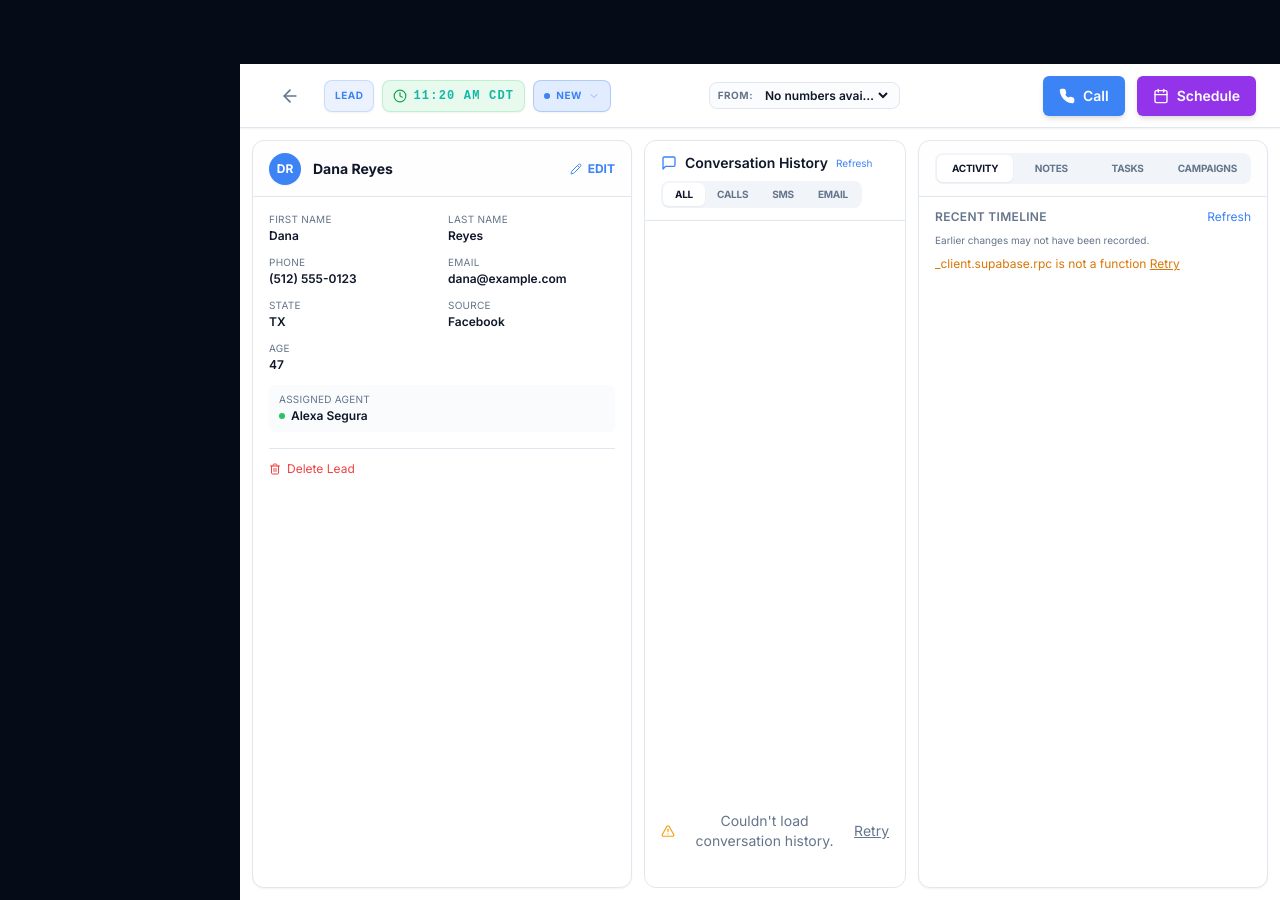
Test: FullScreenContactView — lead score is not exposed › renders no Score field in EDIT mode
This screenshot has width=1280, height=900.
Expected: the text "Source" is shown, x1=448 y1=299 x2=491 y2=311
Click the button "EDIT" at (592,168), box x1=570 y1=160 x2=615 y2=176
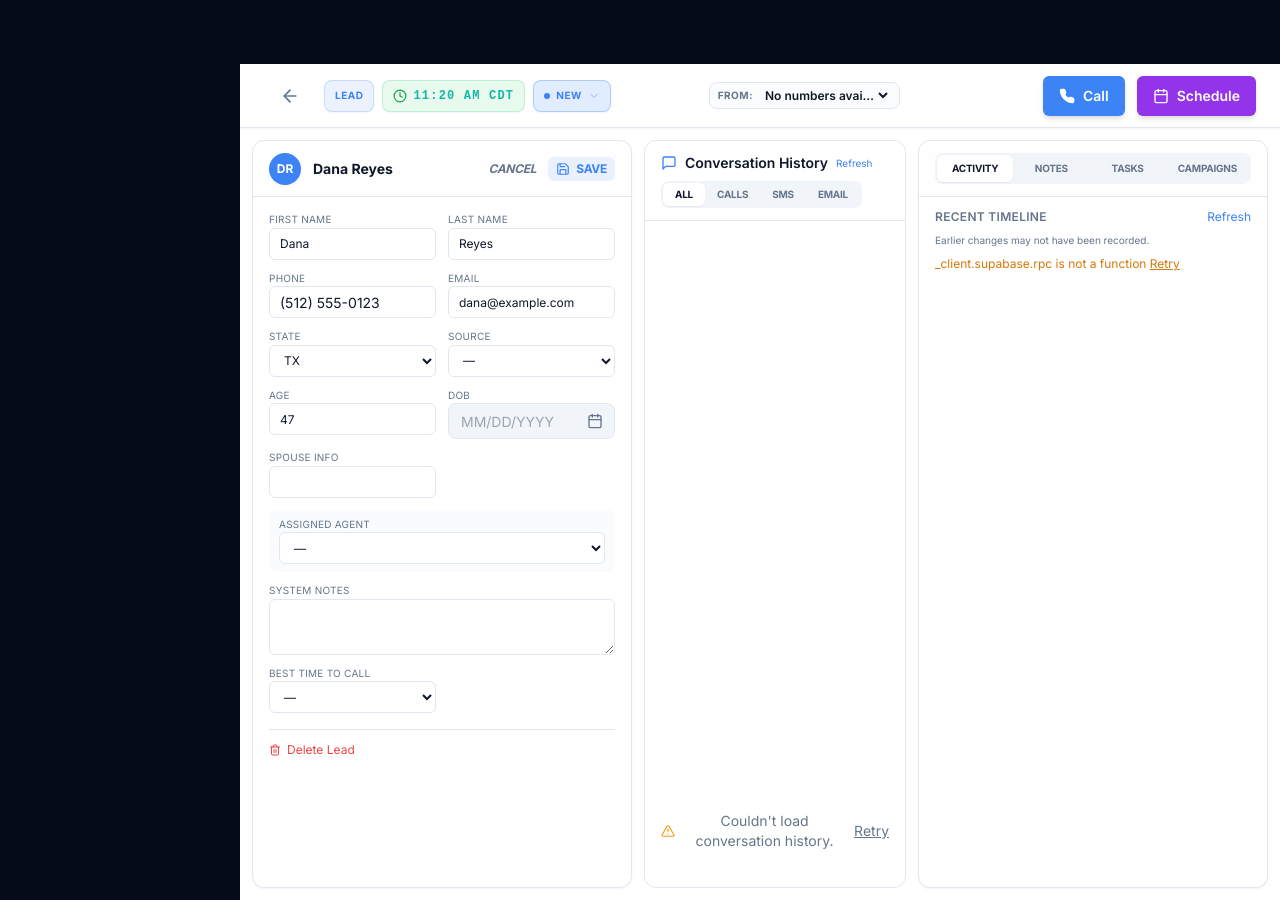
Expected: the button "SAVE" is shown, x1=548 y1=156 x2=615 y2=180
Expected: the text "DOB" is shown, x1=448 y1=388 x2=470 y2=400
Expected: the number field does not hold "9", x1=269 y1=403 x2=436 y2=435
